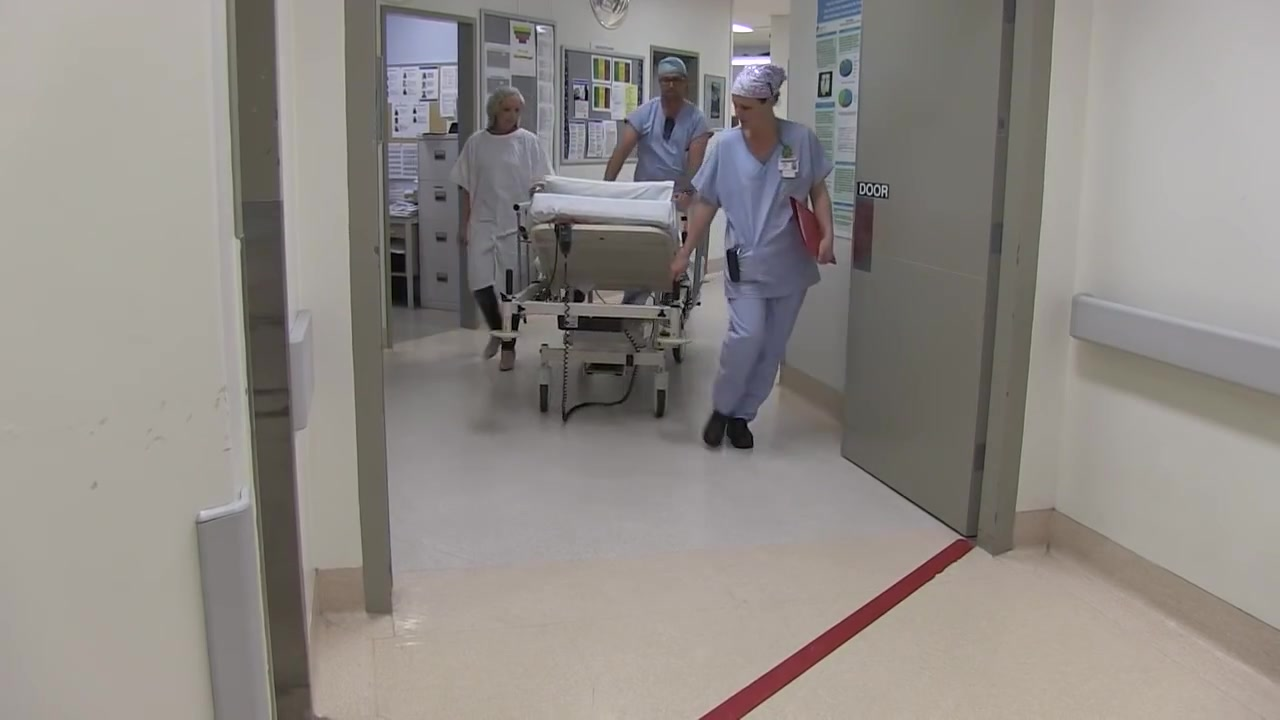hallway_assist_bar: (1069, 291, 1280, 404)
handle: (434, 189, 447, 203), (434, 230, 448, 243), (436, 270, 449, 283), (433, 149, 447, 161)
hospital_bed: (489, 173, 709, 422)
staff: (671, 64, 837, 448), (601, 57, 715, 305)
visitor: (446, 86, 557, 370)
